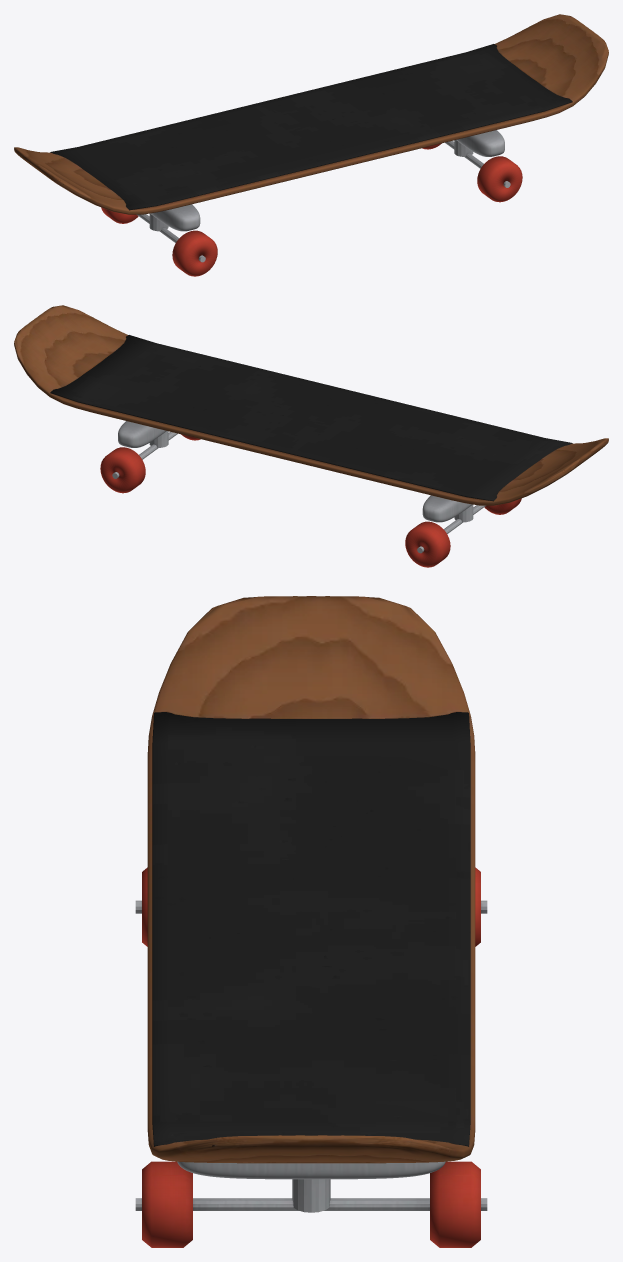
The model's file is dark-red-wheels.glb.
3 renders of one model, top to bottom at view 1: azimuth 30°, elevation 25°; view 2: azimuth 150°, elevation 25°; view 3: azimuth 270°, elevation 25°, orthographic. The views are drawn at different scales.
Visible parts, largest first — view 1: griptape, deck_maple, urethane, truck_alu; view 2: griptape, deck_maple, urethane, truck_alu; view 3: griptape, deck_maple, urethane, truck_alu.
Boxes of the visible parts, x1=… form: griptape: x1=50, y1=44, x2=572, y2=210; deck_maple: x1=14, y1=14, x2=608, y2=214; urethane: x1=101, y1=143, x2=522, y2=276; truck_alu: x1=137, y1=130, x2=510, y2=262; griptape: x1=50, y1=335, x2=572, y2=501; deck_maple: x1=14, y1=305, x2=608, y2=505; urethane: x1=100, y1=434, x2=521, y2=567; truck_alu: x1=112, y1=421, x2=485, y2=553; griptape: x1=152, y1=712, x2=470, y2=1146; deck_maple: x1=147, y1=596, x2=475, y2=1163; urethane: x1=142, y1=867, x2=480, y2=1247; truck_alu: x1=135, y1=900, x2=487, y2=1212.
Size of the model in its own units: 0.8002 by 0.1581 by 0.22.
Materials: 4 (4 with a texture image).
